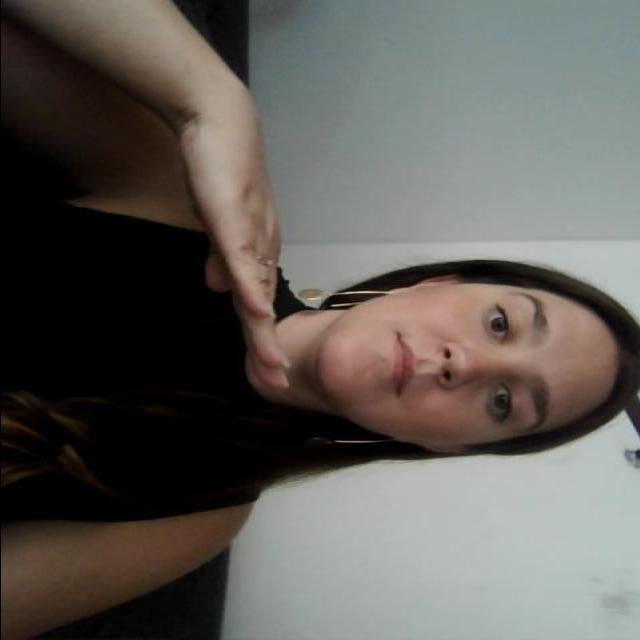Paper: (173, 108, 300, 346)
